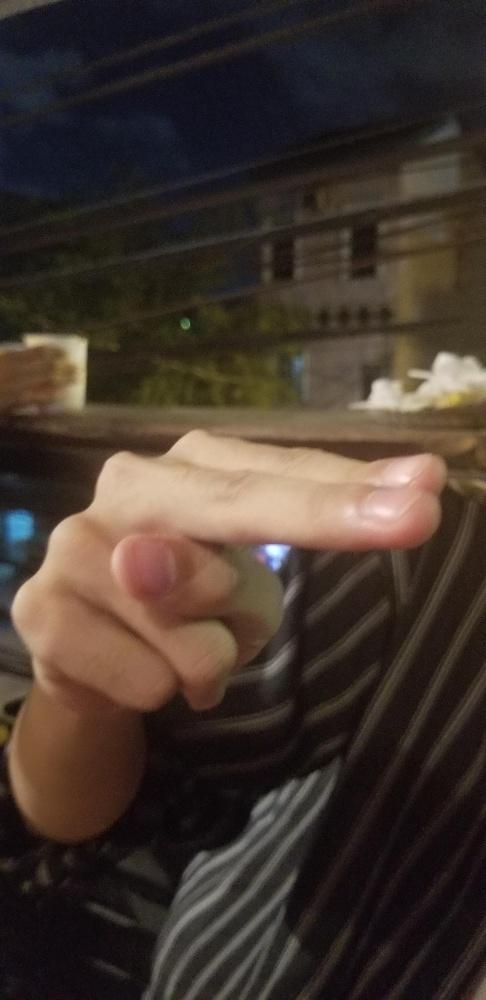n: (9, 425, 451, 713)
